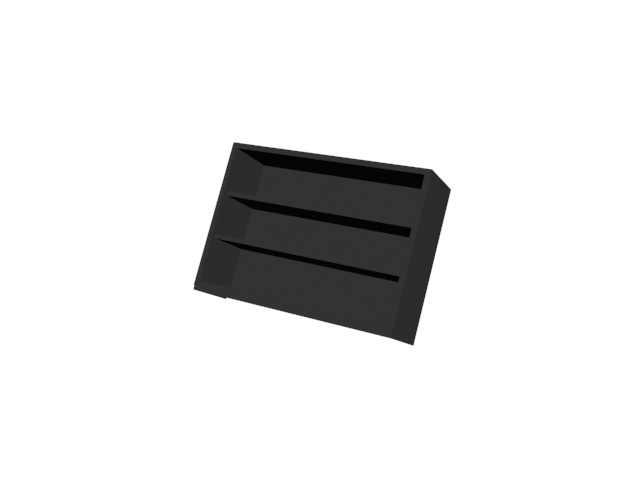bookcase: (193, 137, 456, 352)
